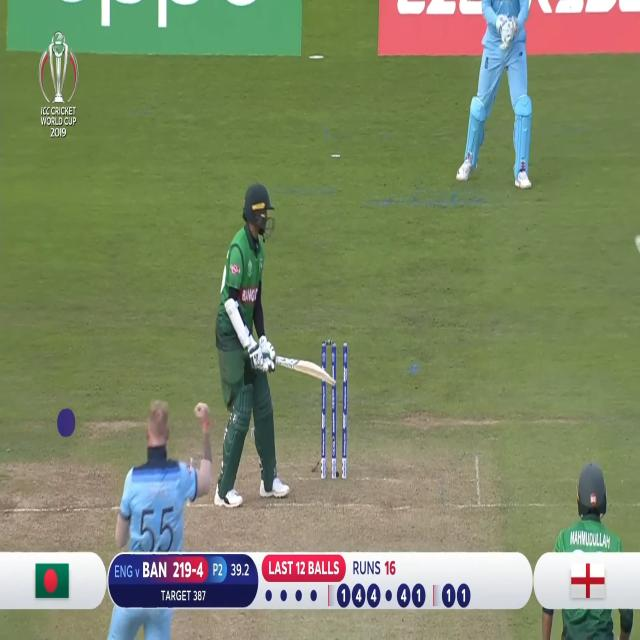ball: (633, 230, 640, 260)
